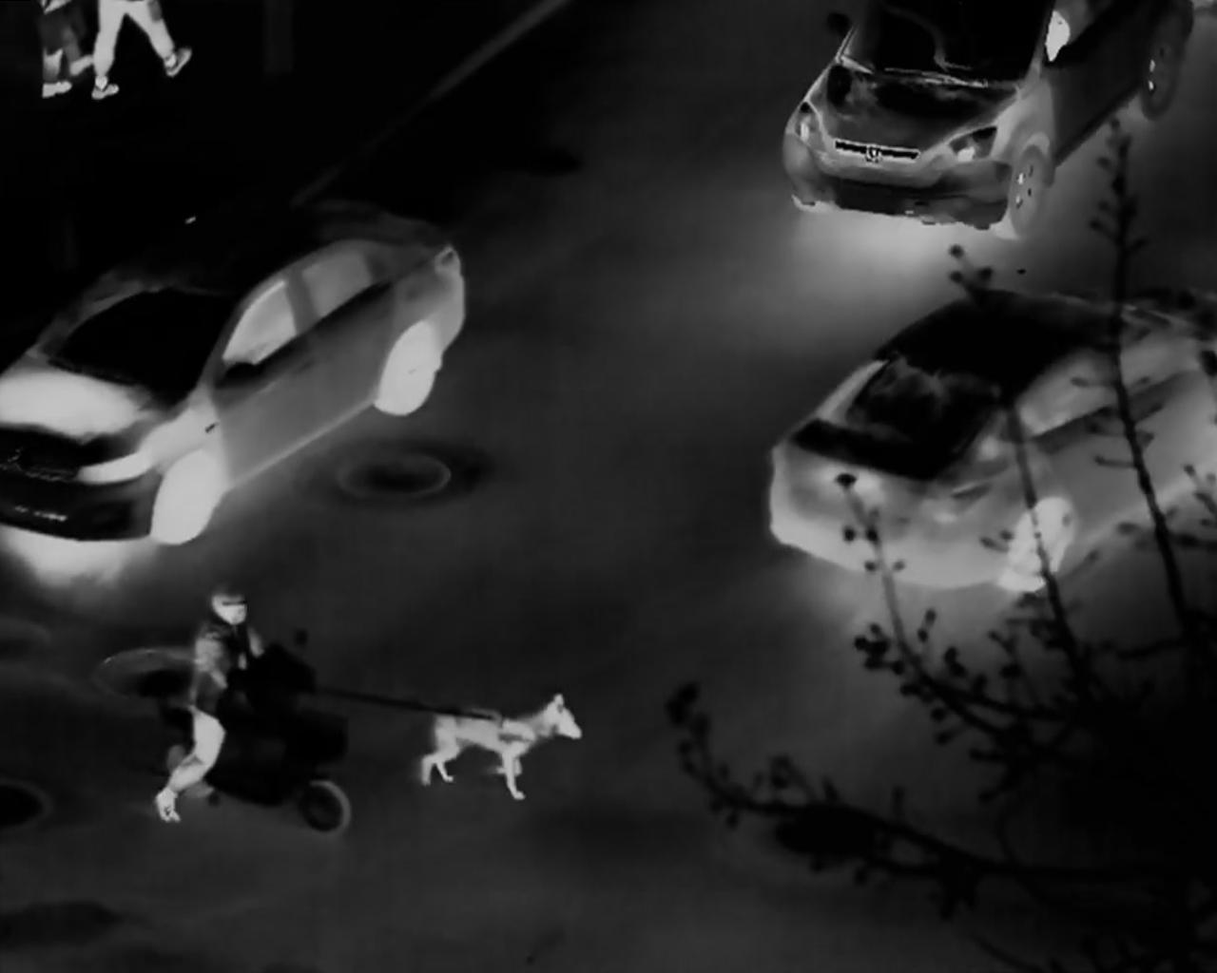person: (151, 589, 274, 830)
